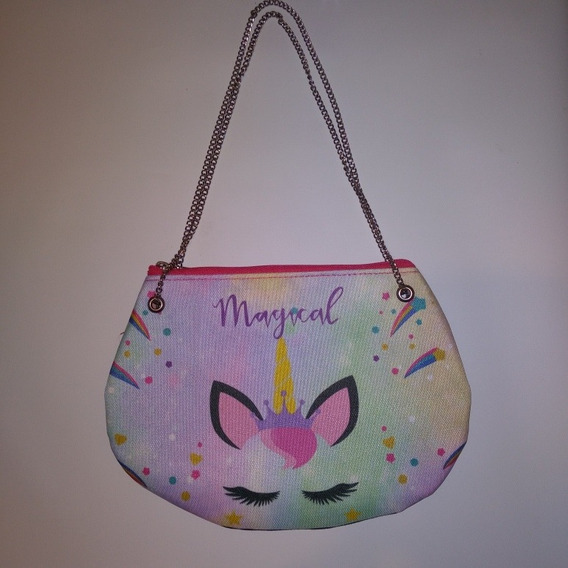cartera: (103, 1, 470, 533)
